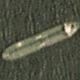ship: (0, 15, 40, 65)
